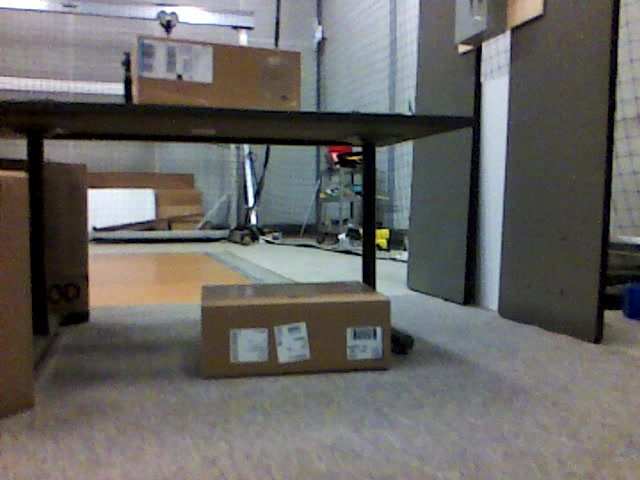box: (201, 280, 392, 372), (132, 34, 302, 111), (1, 172, 34, 415)
